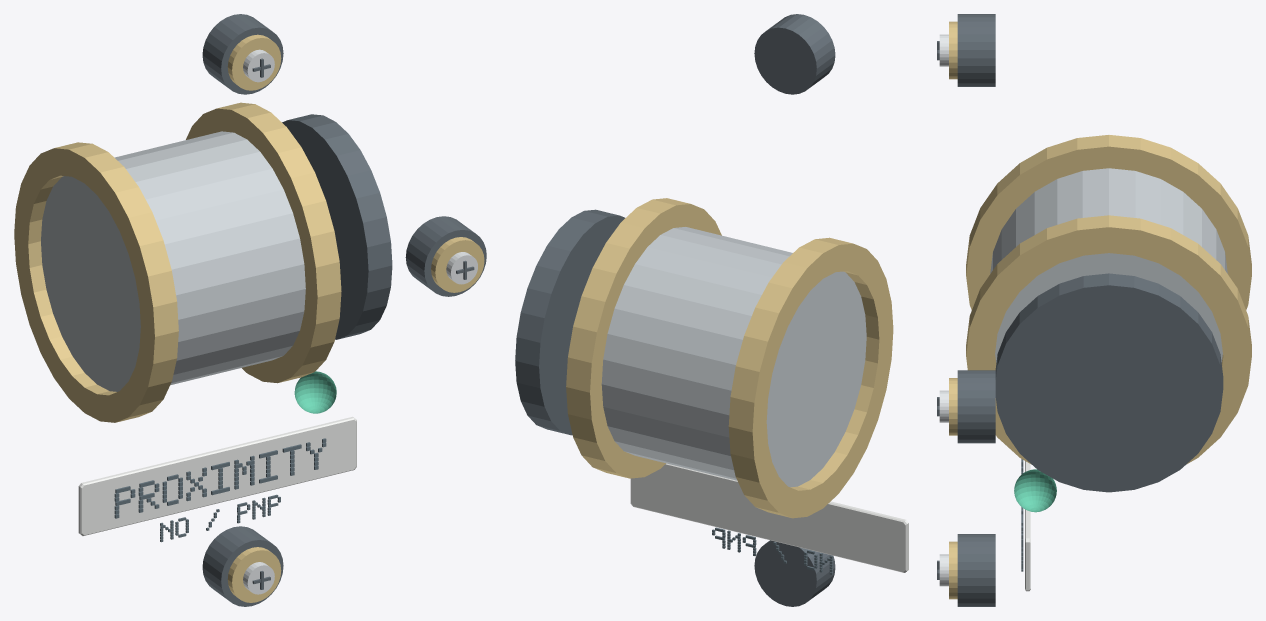
File: proximitySensor.glb
The picture shows the model from 3 angles, left to right: view 1: azimuth 30°, elevation 25°; view 2: azimuth 150°, elevation 25°; view 3: azimuth 270°, elevation 25°; orthographic projection.
Parts seen in each view (by area): view 1: proximitySensor-detailed; view 2: proximitySensor-detailed; view 3: proximitySensor-detailed.
Boxes of the visible parts, x1=… form: proximitySensor-detailed: x1=14, y1=14, x2=486, y2=606; proximitySensor-detailed: x1=515, y1=14, x2=908, y2=606; proximitySensor-detailed: x1=937, y1=14, x2=1251, y2=606.
Bounding box in the file's own units: 1.87 × 2.77 × 1.35.
